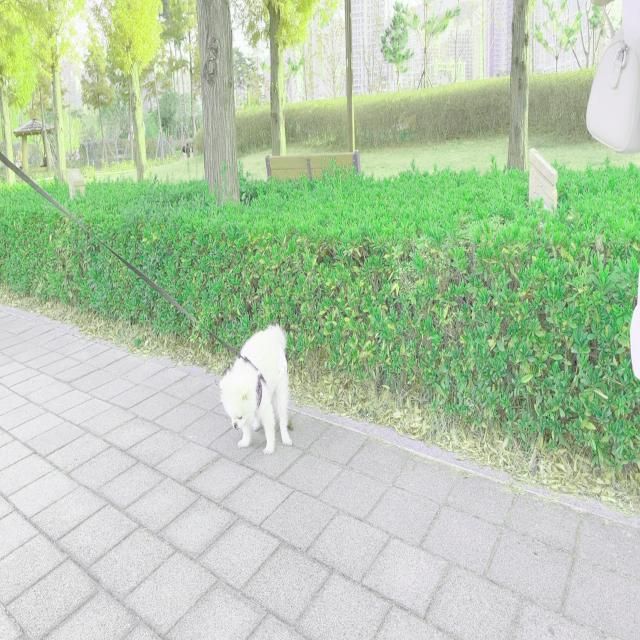Dog: (218, 321, 294, 457)
